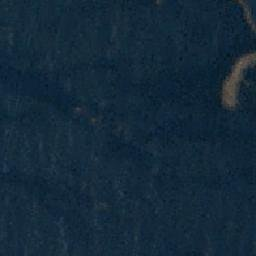debris: (218, 65, 246, 110), (235, 51, 256, 68), (237, 1, 256, 15), (245, 16, 256, 35)
